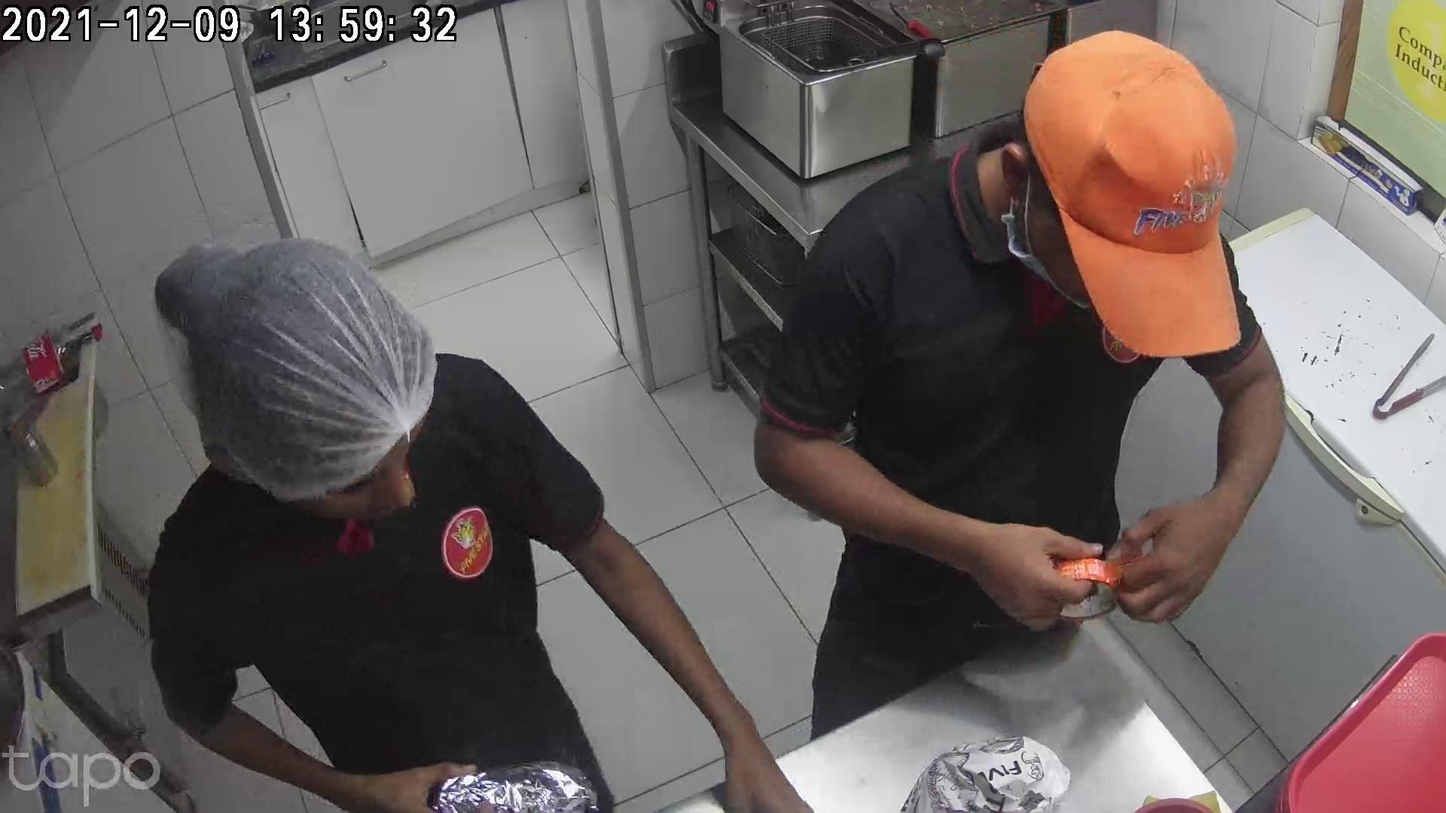no_gloves: (932, 519, 1079, 631), (1115, 516, 1233, 612)
